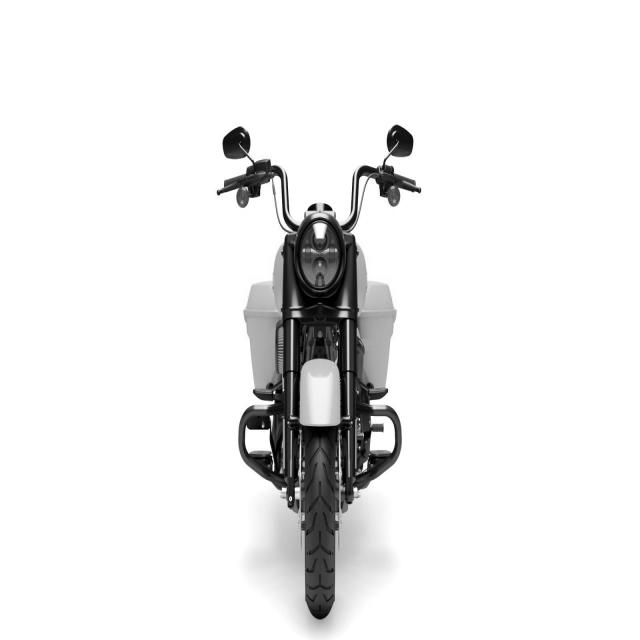Motorcycle: (221, 158, 420, 618)
